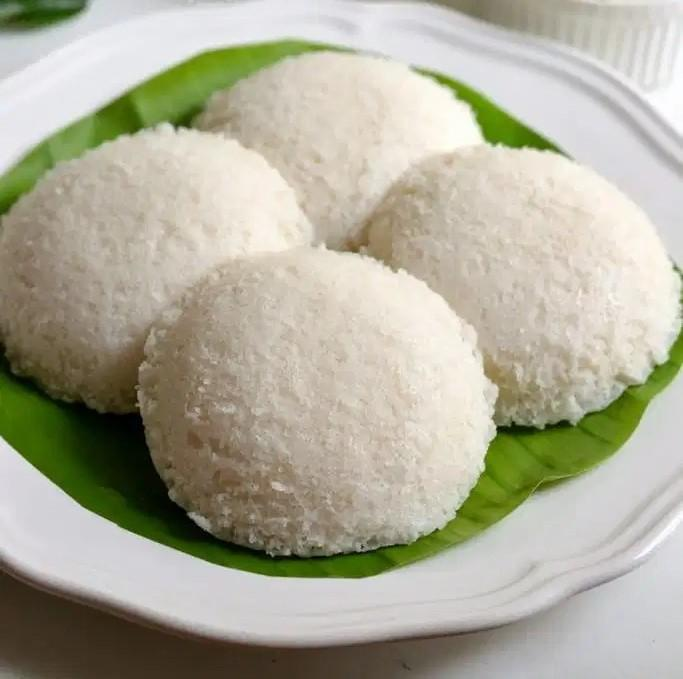Idli: (138, 247, 498, 556), (2, 122, 315, 417), (359, 143, 679, 429), (191, 50, 488, 276)
